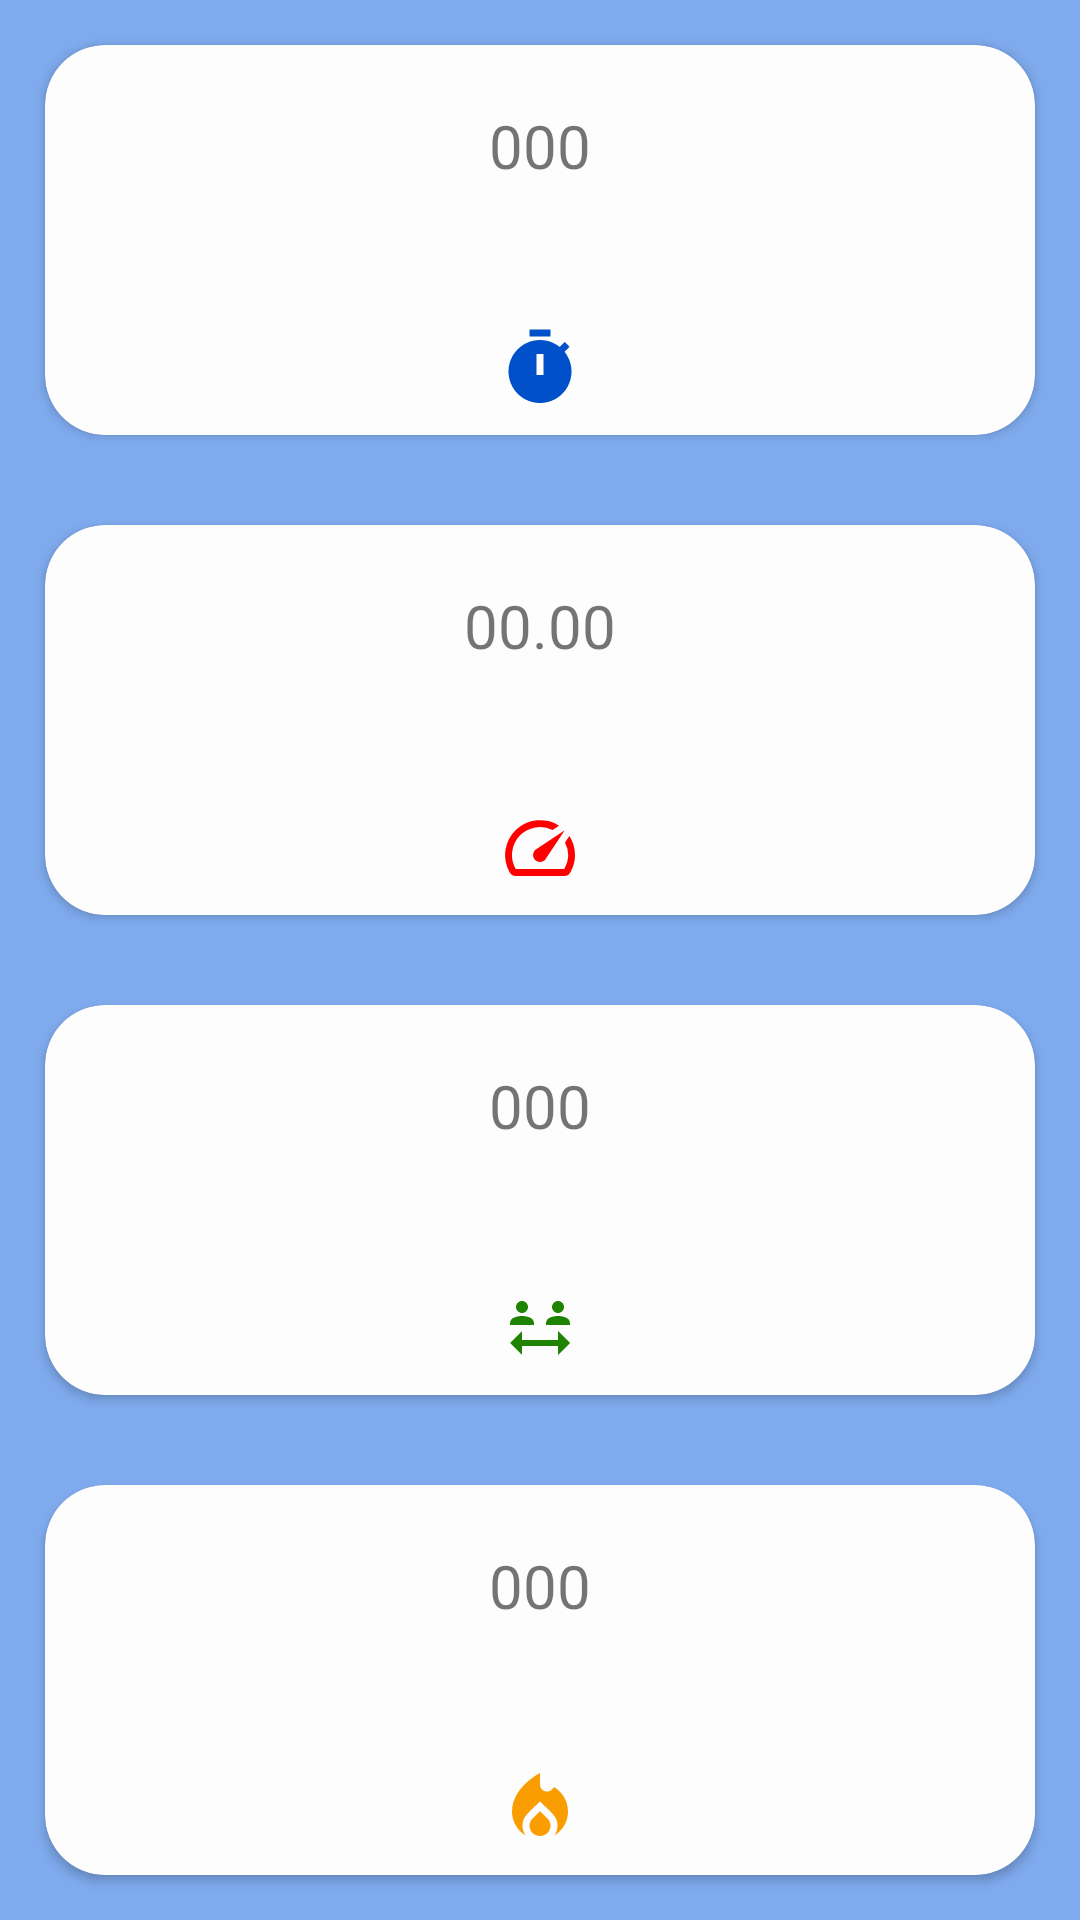

Where to tap for icons on this 1080x1920 app screen, as (x,y):
local fire department: (540,1804)
social distance: (540,1328)
speed: (540,848)
timer: (540,366)
